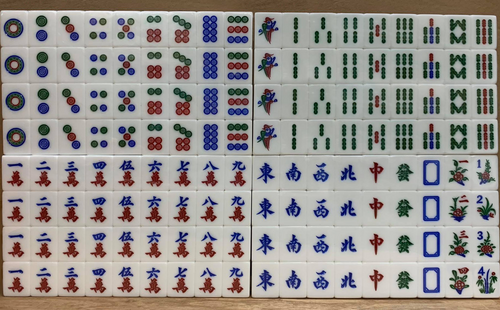b1: (254, 12, 282, 47), (254, 49, 282, 83), (254, 86, 281, 119), (255, 121, 280, 153)
b2: (283, 49, 306, 83), (284, 86, 307, 117), (284, 14, 305, 46), (283, 122, 305, 152)
b3: (311, 13, 336, 46), (312, 50, 335, 82), (311, 85, 334, 117), (311, 120, 334, 151)
b4: (337, 85, 360, 117), (339, 121, 362, 153), (339, 50, 361, 83), (340, 13, 361, 45)
b5: (364, 13, 389, 45), (365, 121, 389, 152), (365, 49, 388, 81), (366, 85, 389, 117)
b6: (392, 85, 417, 117), (392, 120, 416, 151), (393, 14, 416, 46), (392, 50, 415, 82)
b7: (418, 13, 444, 47), (419, 48, 444, 81), (420, 85, 442, 117), (421, 120, 442, 153)
b8: (446, 14, 470, 48), (447, 85, 470, 117), (445, 122, 469, 152), (447, 50, 469, 81)
b9: (472, 14, 497, 47), (473, 83, 497, 116), (473, 121, 497, 150), (472, 51, 495, 81)
c1: (3, 157, 27, 189), (5, 193, 27, 224), (5, 263, 27, 294), (5, 231, 27, 257)
c2: (32, 158, 55, 189), (34, 263, 54, 295), (34, 193, 54, 224), (34, 228, 54, 259)
c3: (58, 157, 84, 192), (60, 228, 82, 260), (60, 193, 83, 223), (61, 264, 82, 295)
c4: (88, 159, 111, 190), (88, 193, 110, 225), (89, 229, 110, 259), (90, 265, 109, 295)
c5: (116, 229, 138, 261), (117, 191, 137, 225), (116, 158, 137, 189), (116, 265, 137, 295)
c6: (143, 158, 166, 188), (145, 192, 165, 224), (143, 264, 164, 294), (144, 227, 164, 258)
c7: (171, 157, 195, 189), (170, 264, 194, 295), (171, 227, 191, 260), (174, 191, 193, 224)
c8: (198, 191, 222, 225), (198, 227, 220, 261), (196, 263, 219, 294), (200, 156, 222, 188)
c9: (225, 158, 250, 189), (225, 227, 248, 260), (226, 264, 248, 296), (227, 191, 248, 222)
d1: (5, 120, 29, 150), (4, 49, 25, 81), (3, 14, 26, 42), (5, 85, 25, 116)
d2: (31, 11, 53, 46), (33, 84, 54, 117), (33, 49, 55, 80), (34, 121, 56, 152)
d3: (57, 45, 84, 82), (60, 12, 85, 43), (60, 120, 84, 152), (59, 85, 83, 115)
d4: (87, 48, 111, 79), (87, 12, 110, 42), (88, 86, 111, 115), (89, 121, 112, 150)
d5: (116, 86, 141, 117), (115, 14, 139, 43), (117, 49, 139, 79), (116, 123, 138, 151)
d6: (142, 12, 167, 44), (145, 49, 168, 83), (146, 121, 166, 153), (146, 87, 166, 116)
d7: (168, 12, 196, 46), (170, 48, 196, 83), (170, 86, 195, 118), (170, 123, 195, 151)
d8: (198, 11, 224, 45), (198, 85, 223, 119), (200, 50, 224, 79), (200, 122, 223, 152)
d9: (226, 13, 252, 46), (226, 121, 250, 154), (226, 87, 250, 117), (227, 50, 250, 80)
dg: (390, 157, 414, 189), (394, 230, 415, 260), (396, 265, 416, 294), (395, 194, 415, 222)
dr: (364, 157, 389, 190), (364, 193, 388, 224), (364, 229, 388, 258), (366, 264, 387, 294)
dw: (418, 192, 443, 225), (419, 157, 443, 187), (422, 265, 445, 295), (420, 229, 442, 259)
f1-s: (473, 157, 496, 171)
f2-s: (473, 193, 498, 206)
f3-s: (473, 229, 499, 243)
f4-s: (475, 264, 499, 277)
s1-s: (445, 158, 470, 170)
s2-s: (445, 191, 472, 206)
s3-s: (446, 226, 470, 240)
s4: (447, 262, 472, 276)
we: (254, 227, 277, 260), (256, 192, 277, 224), (257, 265, 278, 296), (256, 158, 276, 189)
wn: (335, 227, 362, 256), (337, 195, 359, 222), (336, 265, 358, 292), (337, 160, 359, 185)
ws: (283, 231, 307, 260), (284, 264, 305, 294), (281, 193, 304, 220), (284, 159, 304, 184)
ww: (310, 265, 333, 294), (309, 157, 332, 185), (310, 193, 332, 222), (311, 230, 332, 256)
